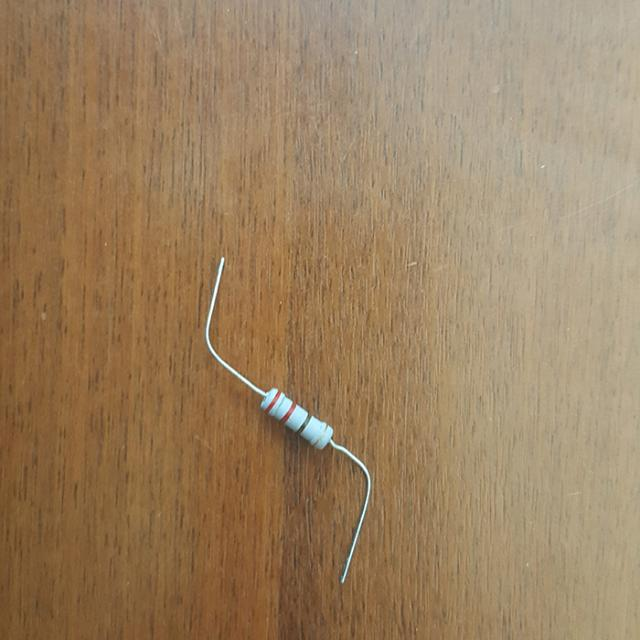brown: (296, 413, 311, 433)
gold: (311, 424, 328, 445)
red: (266, 390, 282, 411), (281, 402, 296, 422)
resistor: (249, 377, 347, 460)
